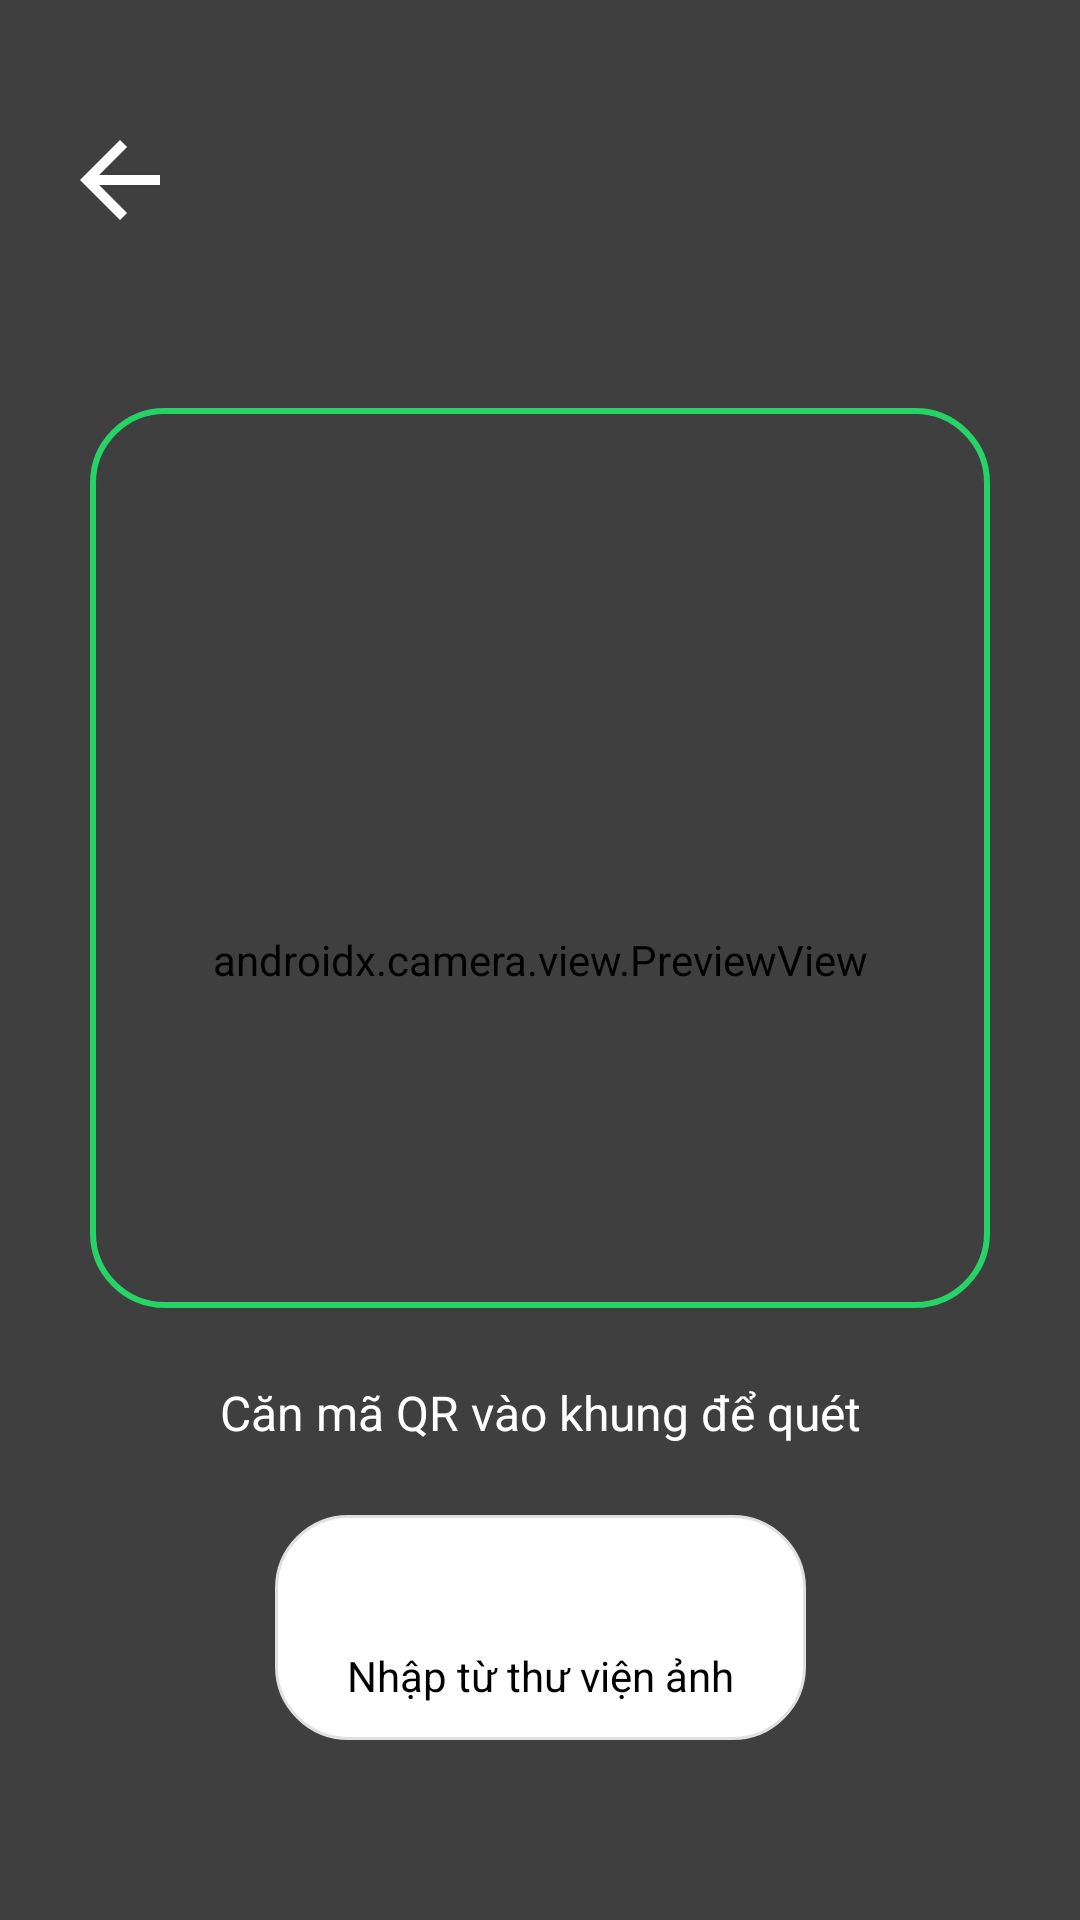

Point at icon controls on the screen. Image size 1080px x 1920px, points as [x,y].
arrow back: [120,180]
